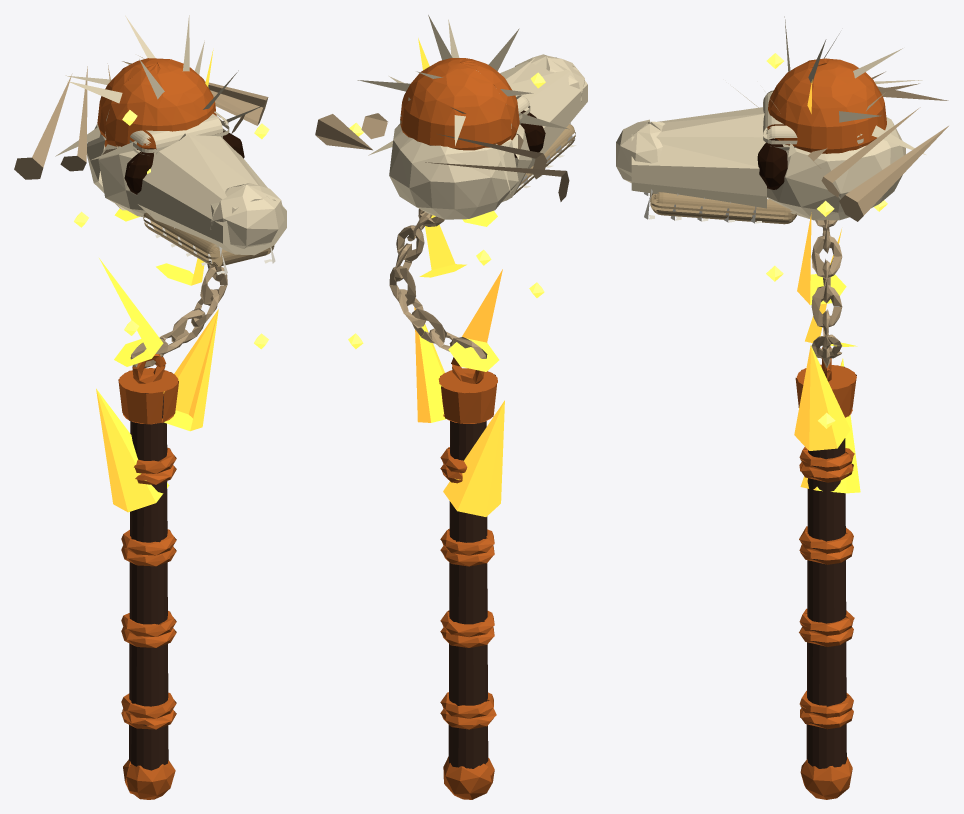
The model's file is dragontail_great_flail.glb.
3 renders of one model, left to right at view 1: azimuth 30°, elevation 25°; view 2: azimuth 150°, elevation 25°; view 3: azimuth 270°, elevation 25°, orthographic.
Visible parts, largest first — view 1: dragontail_great_flail; view 2: dragontail_great_flail; view 3: dragontail_great_flail.
Boxes of the visible parts, left/top/right/bottom form: dragontail_great_flail: left=14, top=15, right=286, bottom=799; dragontail_great_flail: left=315, top=15, right=587, bottom=799; dragontail_great_flail: left=616, top=16, right=948, bottom=799.
Size of the model in its own units: 0.6092 by 1.8 by 0.6962.
